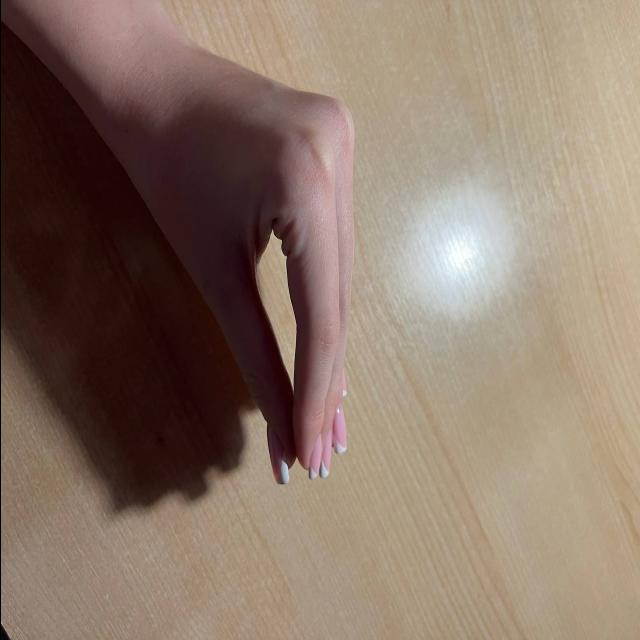zh: (164, 86, 368, 498)
